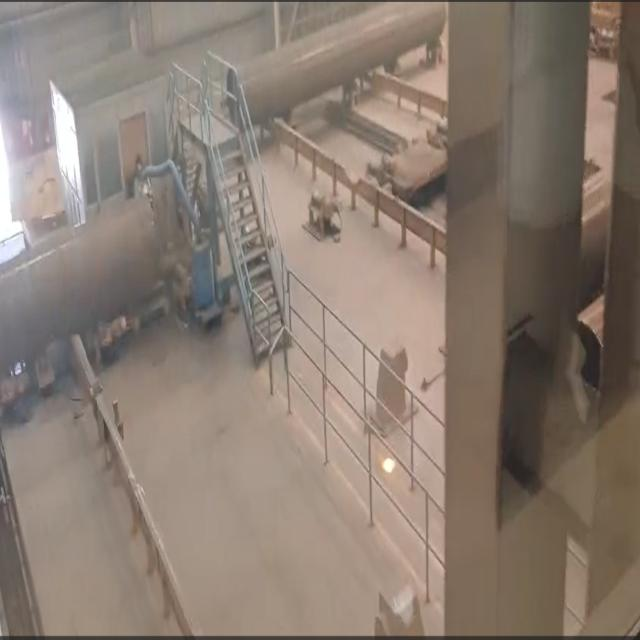warningzone: (1, 333, 203, 635), (270, 69, 448, 266)
